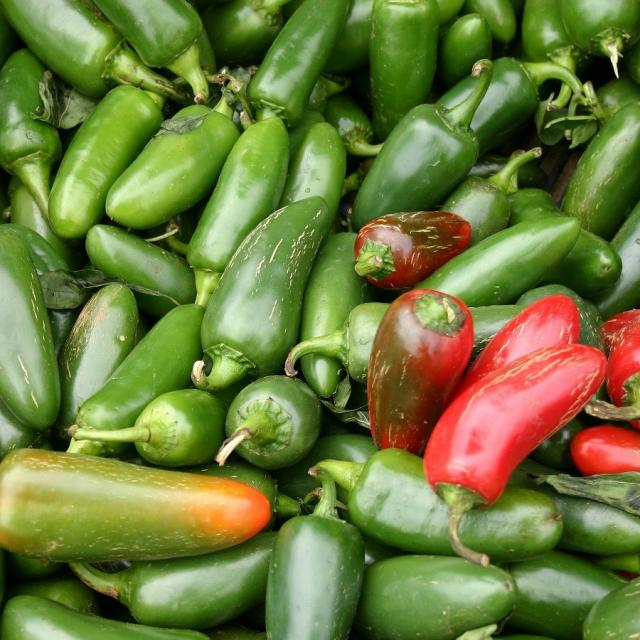aji: (12, 2, 640, 640)
